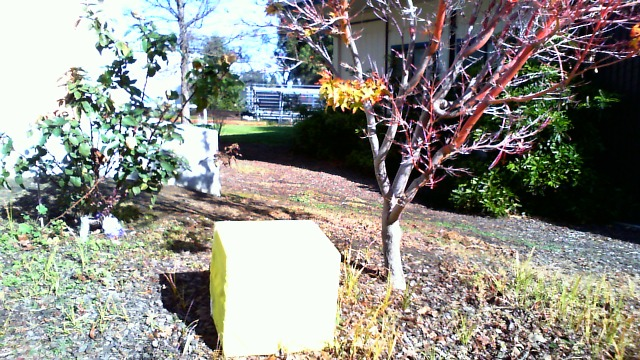cube: (206, 220, 341, 360)
